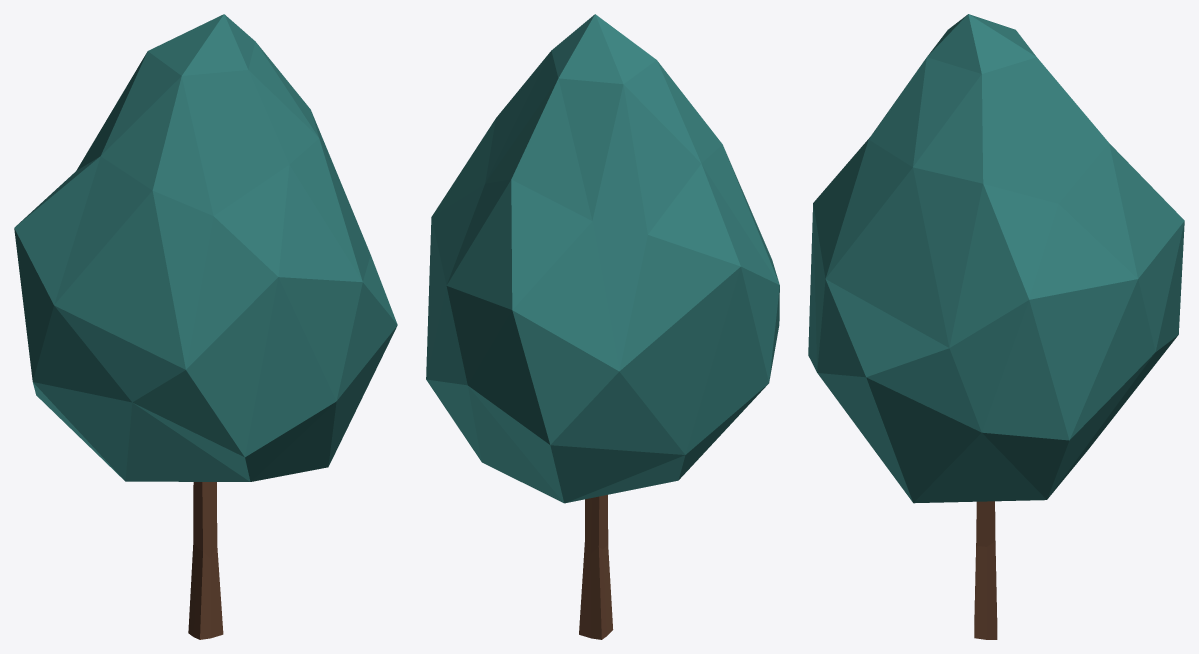
Rendered from Tree_5_Blue.fbx.
3 renders of one model, left to right at view 1: azimuth 30°, elevation 25°; view 2: azimuth 150°, elevation 25°; view 3: azimuth 270°, elevation 25°, orthographic. The views are drawn at different scales.
Parts seen in each view (by area): view 1: Tree_5_Blue_Part_1, Tree_5_Blue_Part_2; view 2: Tree_5_Blue_Part_1, Tree_5_Blue_Part_2; view 3: Tree_5_Blue_Part_1, Tree_5_Blue_Part_2.
Boxes of the visible parts, x1,y1,x2,y2 form: Tree_5_Blue_Part_1: [14, 14, 397, 481]; Tree_5_Blue_Part_2: [188, 482, 223, 639]; Tree_5_Blue_Part_1: [426, 14, 779, 503]; Tree_5_Blue_Part_2: [579, 495, 613, 639]; Tree_5_Blue_Part_1: [808, 14, 1184, 503]; Tree_5_Blue_Part_2: [974, 501, 997, 639].
Bounding box in the file's own units: 437 × 795 × 434.
